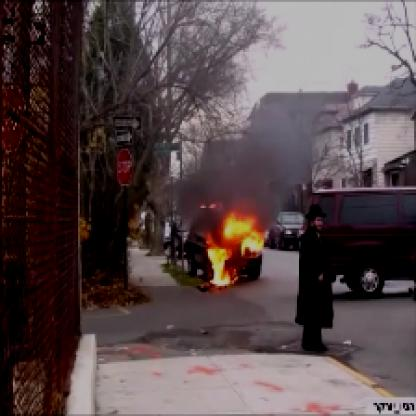Fire: (195, 189, 264, 288)
